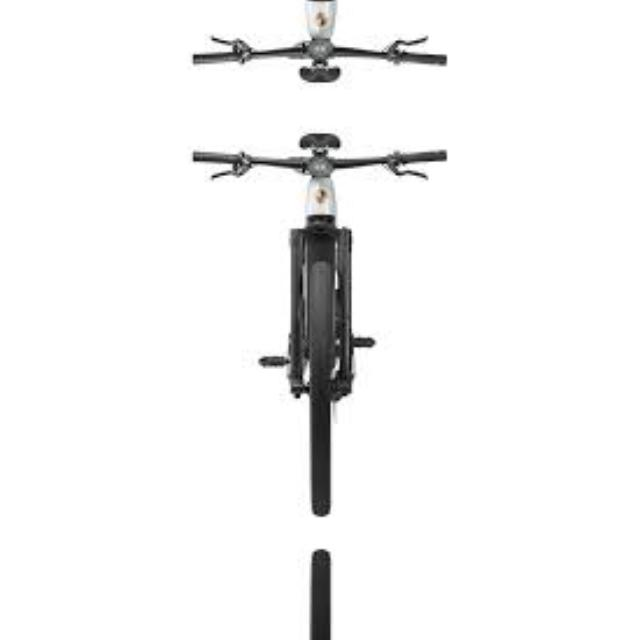obstacle: (182, 126, 460, 532), (182, 534, 459, 640), (182, 0, 459, 87)
